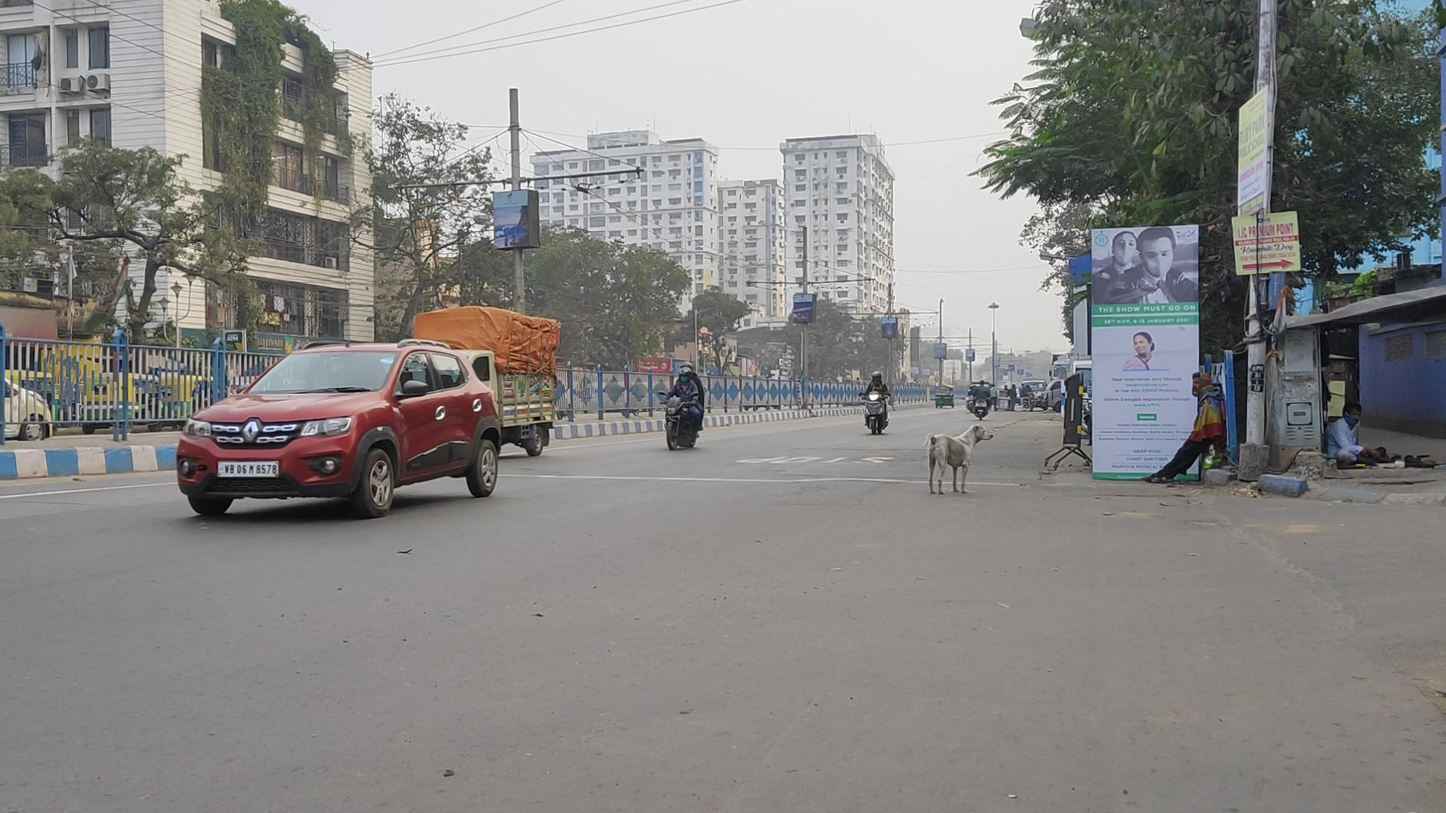Auto: (935, 385, 955, 409)
bike: (658, 362, 705, 451), (859, 371, 891, 435), (972, 380, 991, 421)
car: (176, 339, 502, 519), (1021, 379, 1048, 411)
van: (411, 306, 560, 458)
